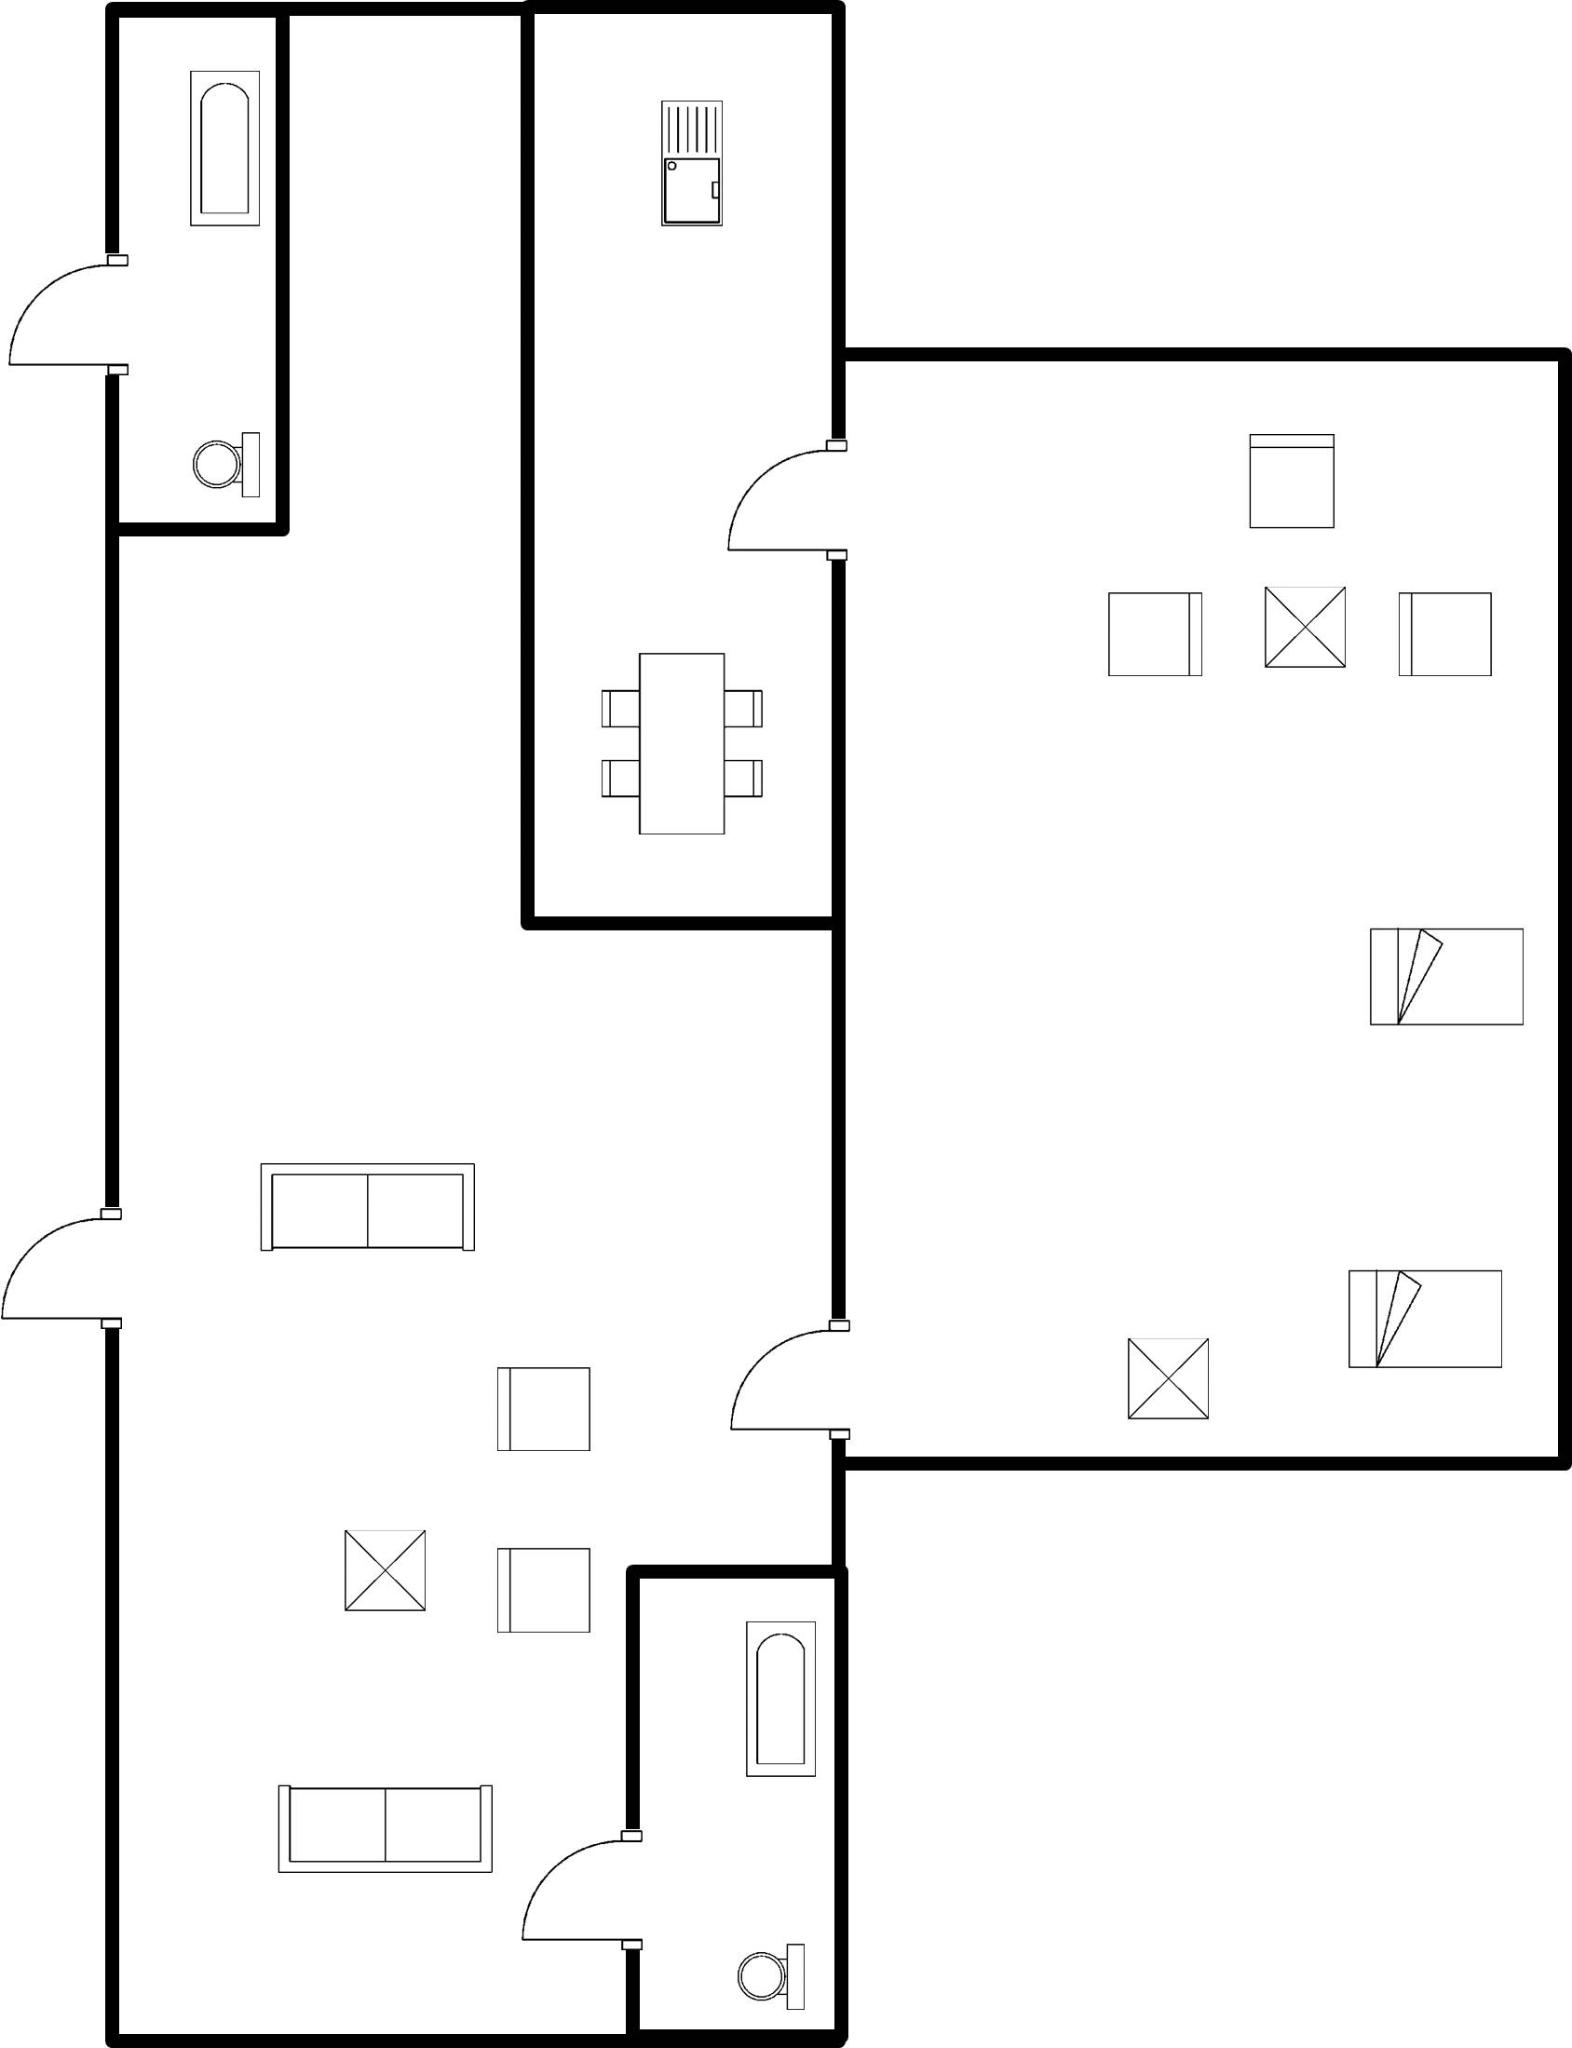bed: (1357, 912, 1543, 1042), (1335, 1254, 1519, 1378)
dining_table: (584, 640, 772, 850)
sink: (648, 92, 738, 236)
sofa: (240, 1144, 488, 1260), (258, 1776, 506, 1886)
toilet: (178, 421, 270, 505)
tub: (167, 55, 267, 241)
